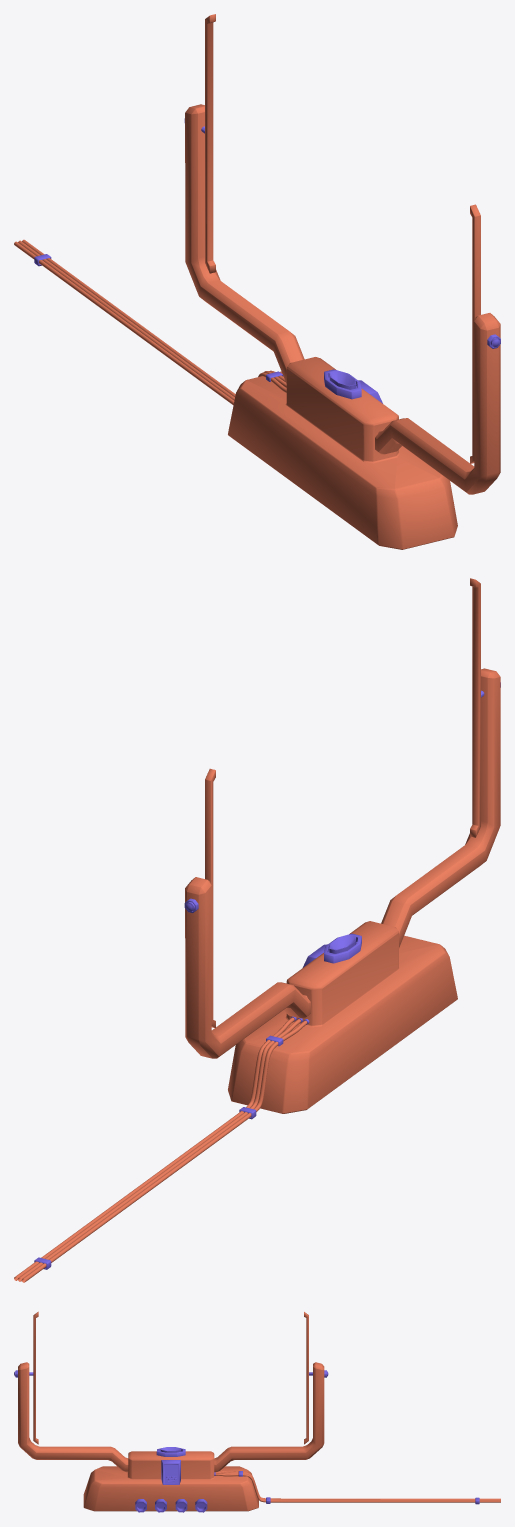
File: screen.fbx
3 renders of one model, top to bottom at view 1: azimuth 30°, elevation 25°; view 2: azimuth 150°, elevation 25°; view 3: azimuth 270°, elevation 25°, orthographic. The views are drawn at different scales.
Visible parts, largest first — view 1: NurbsPath.001, separate_outlet; view 2: NurbsPath.001, separate_outlet; view 3: NurbsPath.001, separate_outlet.
Part boxes in pixels (x1,y1,x2,y2): NurbsPath.001: (14,14,500,549); separate_outlet: (34,118,500,403); NurbsPath.001: (14,578,500,1282); separate_outlet: (34,682,500,1269); NurbsPath.001: (18,1311,500,1511); separate_outlet: (14,1370,479,1512).
Size of the model in its own units: 88.62 by 353 by 817.
